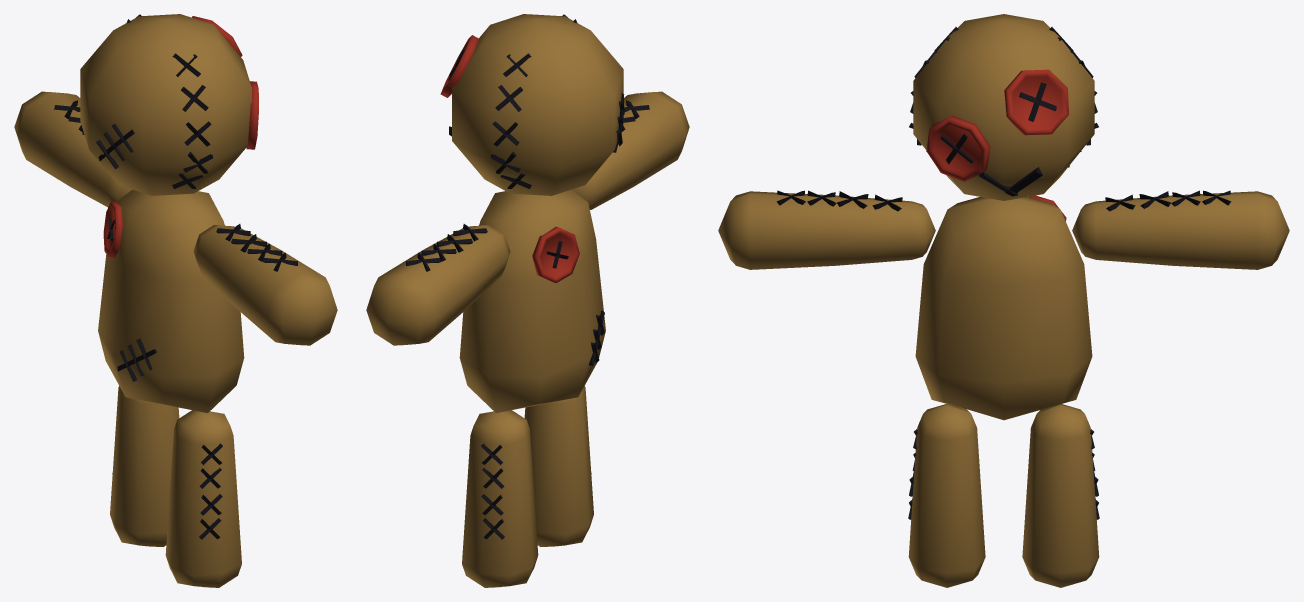
The model's file is doll.fbx.
The picture shows the model from 3 angles, left to right: view 1: azimuth 30°, elevation 25°; view 2: azimuth 150°, elevation 25°; view 3: azimuth 270°, elevation 25°; orthographic projection.
Parts seen in each view (by area): view 1: Sphere, Cube, Cube.002, Cube.003, Cube.004, Cube.001; view 2: Sphere, Cube, Cube.004, Cube.001, Cube.002, Cube.003; view 3: Cube, Sphere, Cube.001, Cube.003, Cube.002, Cube.004.
Boxes of the visible parts, <box> form: Sphere: <box>80,14,258,195</box>; Cube: <box>98,189,244,412</box>; Cube.002: <box>165,410,241,587</box>; Cube.003: <box>193,224,337,345</box>; Cube.004: <box>110,386,179,546</box>; Cube.001: <box>14,91,131,207</box>; Sphere: <box>440,14,624,195</box>; Cube: <box>459,189,605,412</box>; Cube.004: <box>462,410,538,587</box>; Cube.001: <box>366,224,510,345</box>; Cube.002: <box>524,386,593,546</box>; Cube.003: <box>572,91,689,209</box>; Cube: <box>915,195,1092,420</box>; Sphere: <box>909,14,1098,200</box>; Cube.001: <box>1072,190,1289,269</box>; Cube.003: <box>718,190,935,269</box>; Cube.002: <box>908,404,985,587</box>; Cube.004: <box>1022,404,1099,587</box>.
Size of the model in its own units: 133 by 441 by 409.
